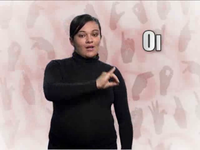oi: (95, 67, 120, 92)
